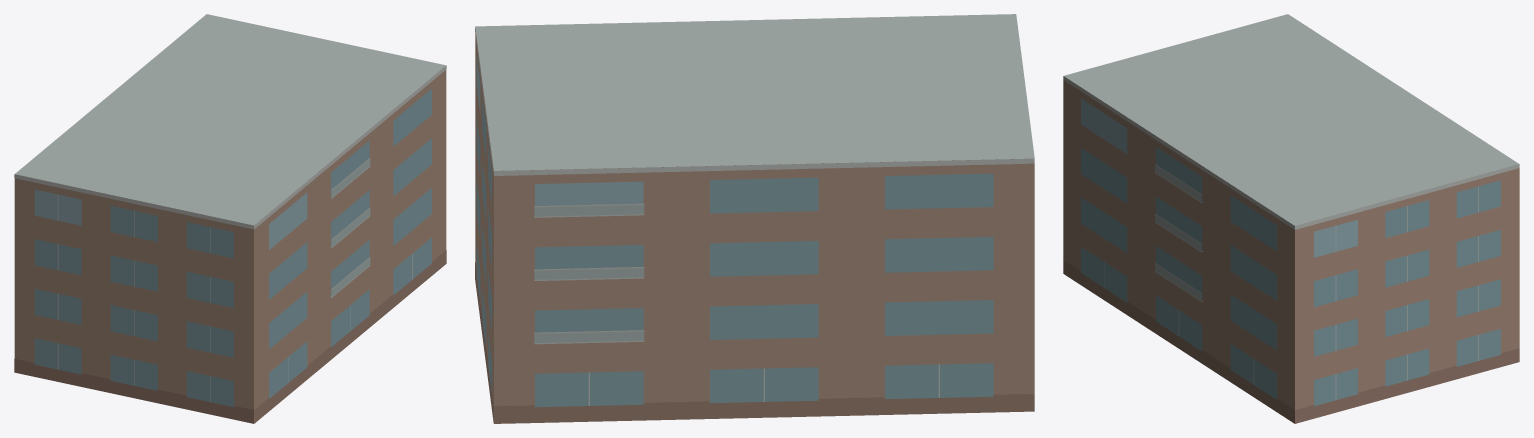
The model's file is residential-8a8a4285-c1ec-4b20-bcaa-773951af7960.glb.
3 renders of one model, left to right at view 1: azimuth 30°, elevation 25°; view 2: azimuth 150°, elevation 25°; view 3: azimuth 270°, elevation 25°, orthographic. The views are drawn at different scales.
Parts seen in each view (by area): view 1: residential-8a8a4285-c1ec-4b20-bcaa-773951af7960.tmp; view 2: residential-8a8a4285-c1ec-4b20-bcaa-773951af7960.tmp; view 3: residential-8a8a4285-c1ec-4b20-bcaa-773951af7960.tmp.
Boxes of the visible parts, left/top/right/bottom form: residential-8a8a4285-c1ec-4b20-bcaa-773951af7960.tmp: left=14, top=14, right=446, bottom=423; residential-8a8a4285-c1ec-4b20-bcaa-773951af7960.tmp: left=475, top=14, right=1034, bottom=423; residential-8a8a4285-c1ec-4b20-bcaa-773951af7960.tmp: left=1063, top=14, right=1519, bottom=423.
Bounding box in the file's own units: 28.03 × 12.2 × 25.49.
